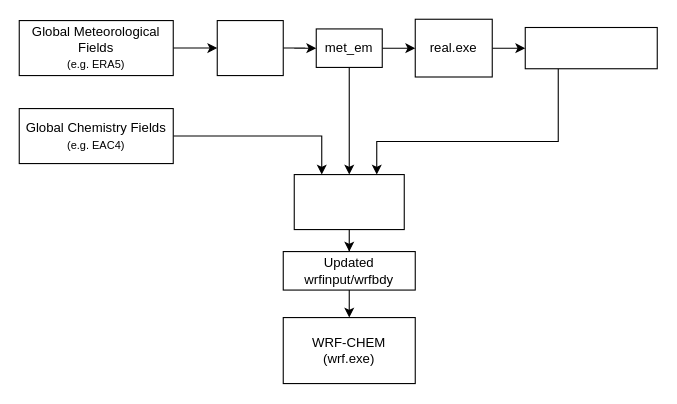
Some shapes in this 677 by 404 pixel diagram are drawn without their labels. The centre of each missing label's shape, as x and y in pixels:
"Interpolator for WRF-CHEM" goes at [348,201].
"WPS" goes at [249,47].
"wrfinput/wrfbdy" goes at [590,47].
